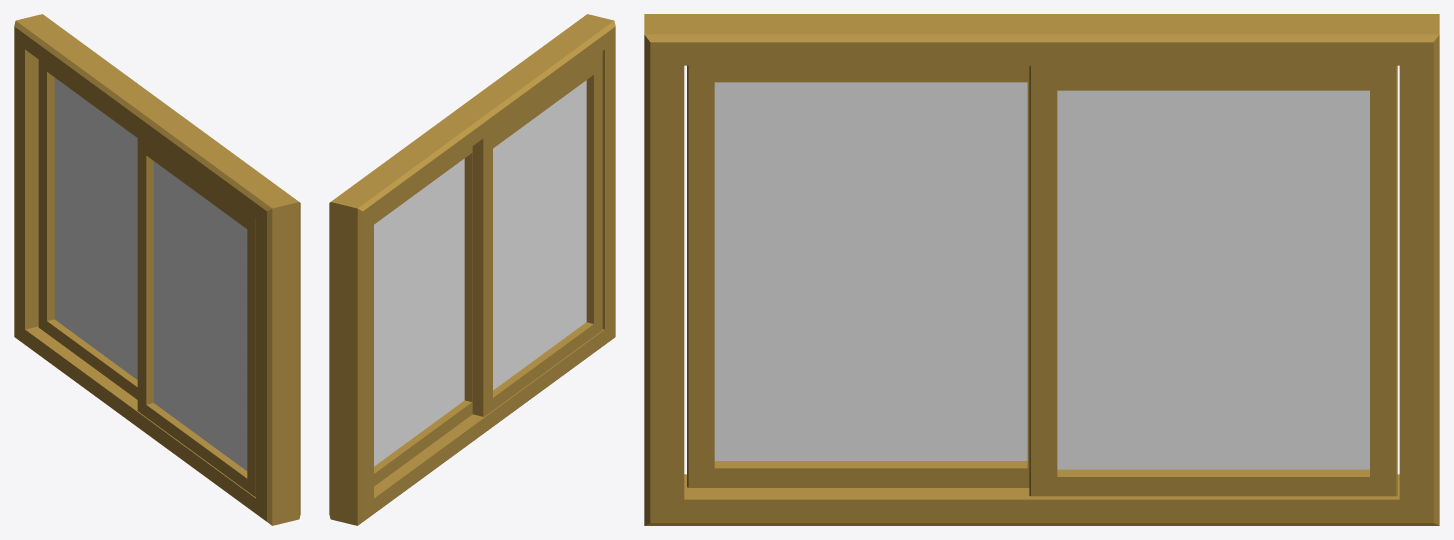
File: window.fbx
The picture shows the model from 3 angles, left to right: view 1: azimuth 30°, elevation 25°; view 2: azimuth 150°, elevation 25°; view 3: azimuth 270°, elevation 25°; orthographic projection. The views are drawn at different scales.
Visible parts, largest first — view 1: window_body, window_glass_left1, window_glass_right1; view 2: window_glass_left1, window_body, window_glass_right1; view 3: window_glass_right1, window_glass_left1, window_body.
Part boxes in pixels (x1,y1,x2,y2): window_body: (14,14,300,525); window_glass_left1: (137,132,255,497); window_glass_right1: (38,60,137,399); window_glass_left1: (472,51,602,416); window_body: (329,14,615,525); window_glass_right1: (374,146,472,486); window_glass_right1: (1029,65,1397,496); window_glass_left1: (687,65,1029,487); window_body: (644,14,1439,525).
Bounding box in the file's own units: 4.35 × 39.17 × 57.42.
